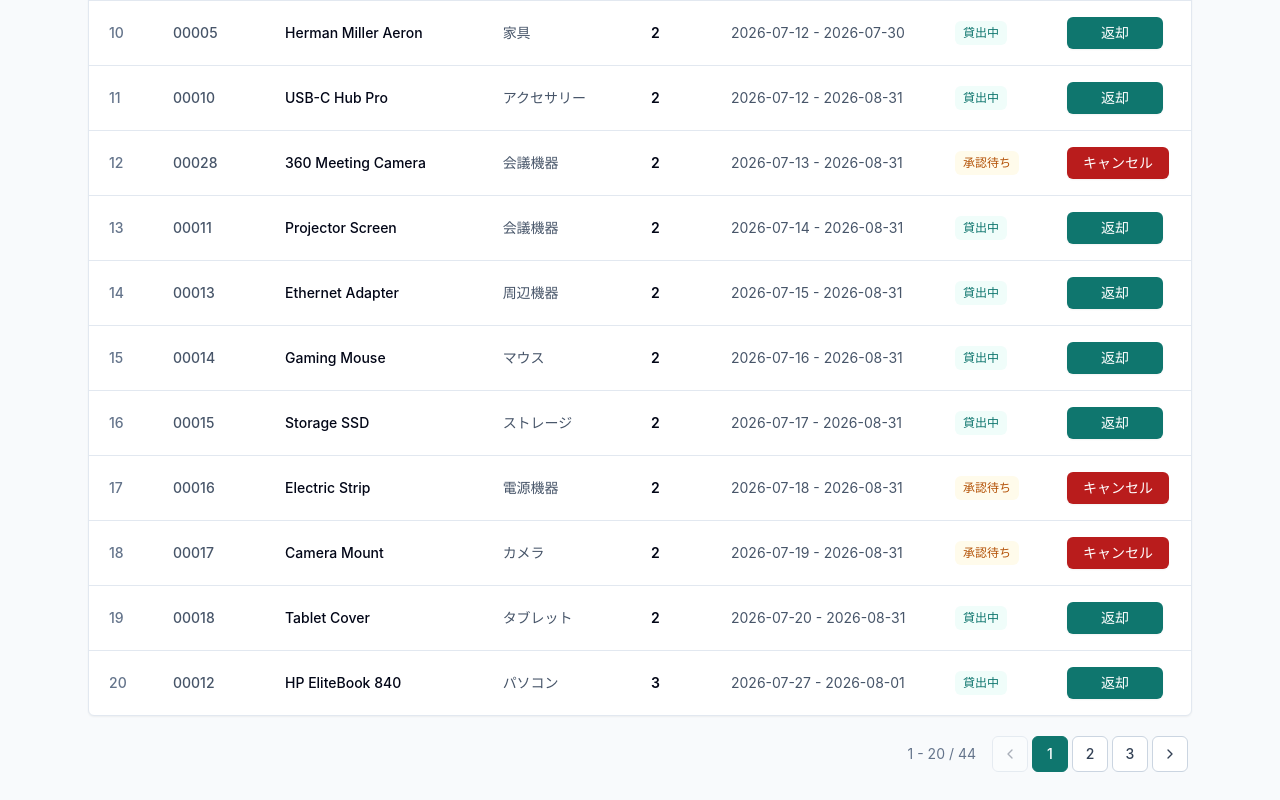
Test case: MyLoanRequestPage › 039: 2ページ目の前のページで1ページ目を表示する
(page scrolled)
What coordinates should you click on to do the following:
click the button "2"
I would click on:
 (1090, 754)
Its box is [1072, 736, 1108, 772].
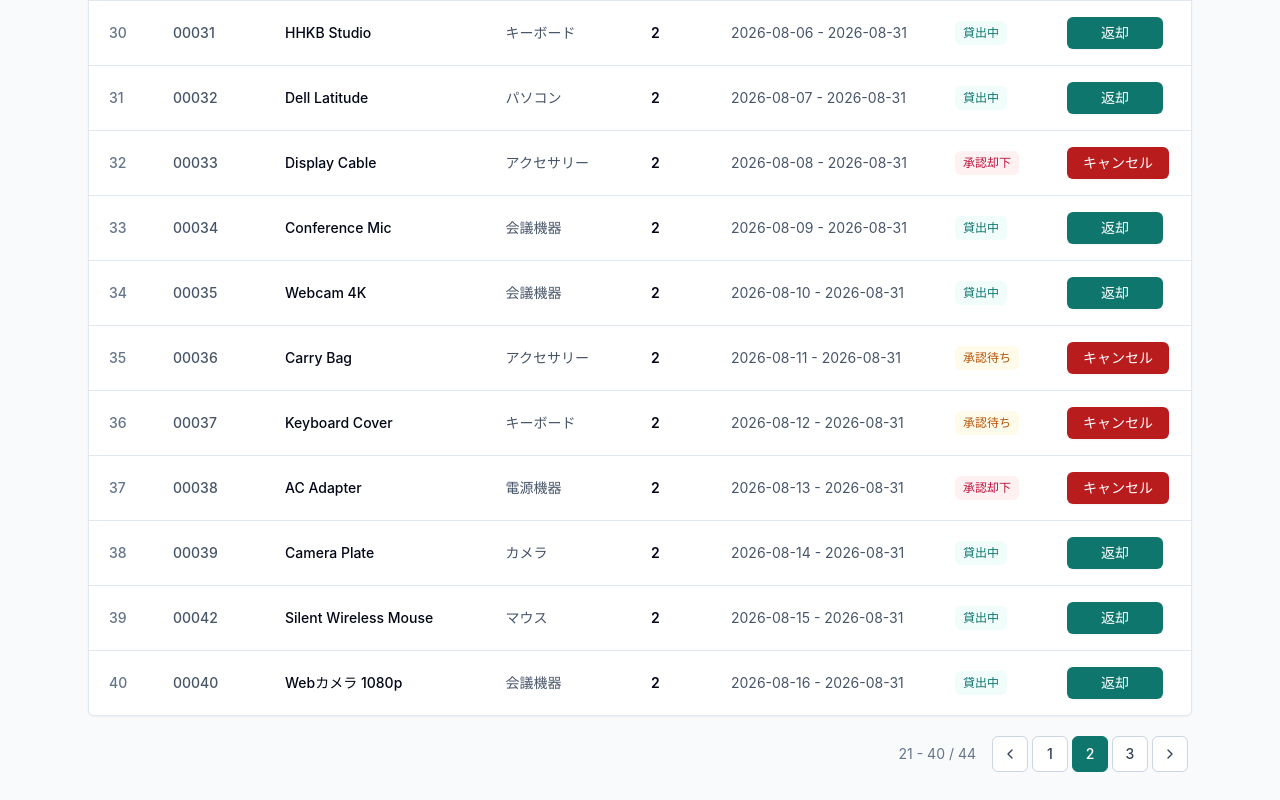
What coordinates should you click on to do the following:
click the button named "前のページ"
I would click on:
 (1010, 754)
Its box is [992, 736, 1028, 772].
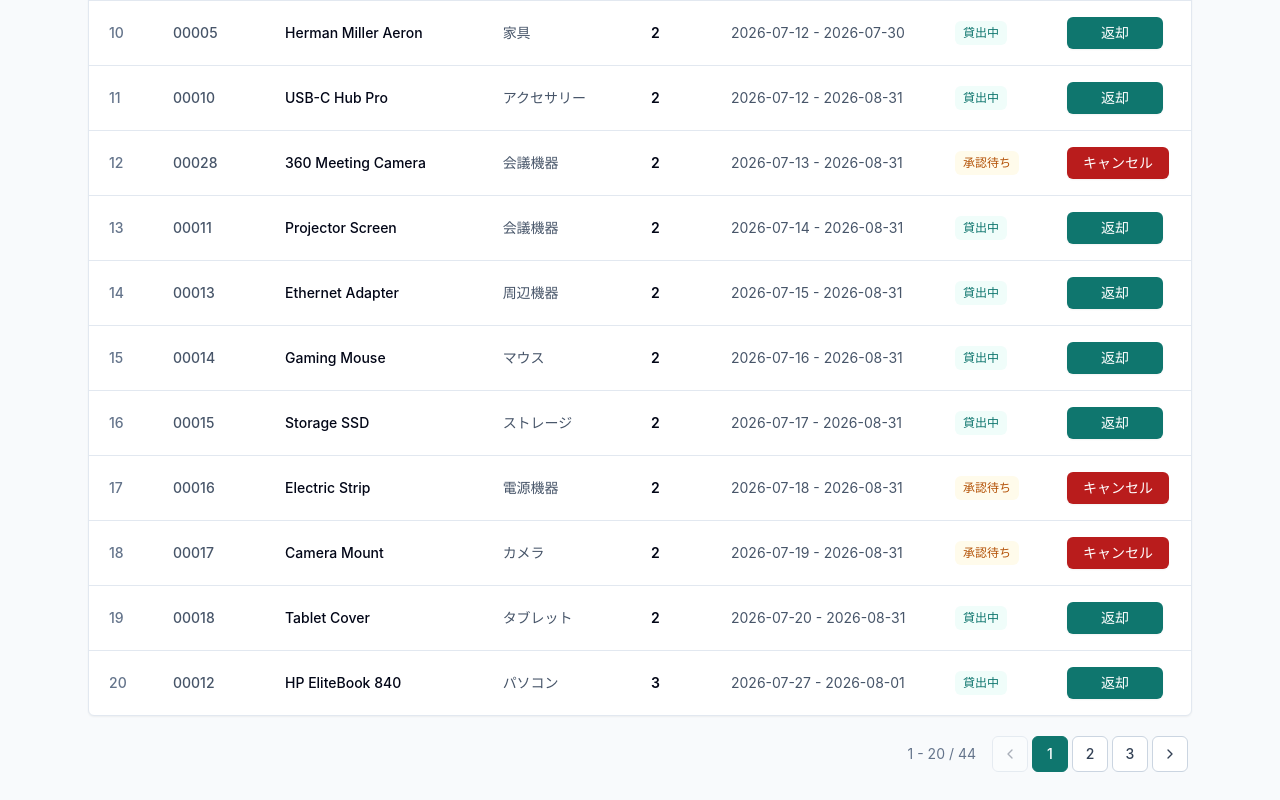
Expected: the button named "次のページ" is enabled, [1152, 736, 1188, 772]
Expected: the row that starts with "HP EliteBook 840" is shown, [285, 674, 401, 691]
Expected: the text "1 - 20 / 44" is shown, [908, 744, 976, 764]
